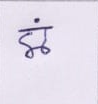anusvara: (34, 19, 39, 23)
